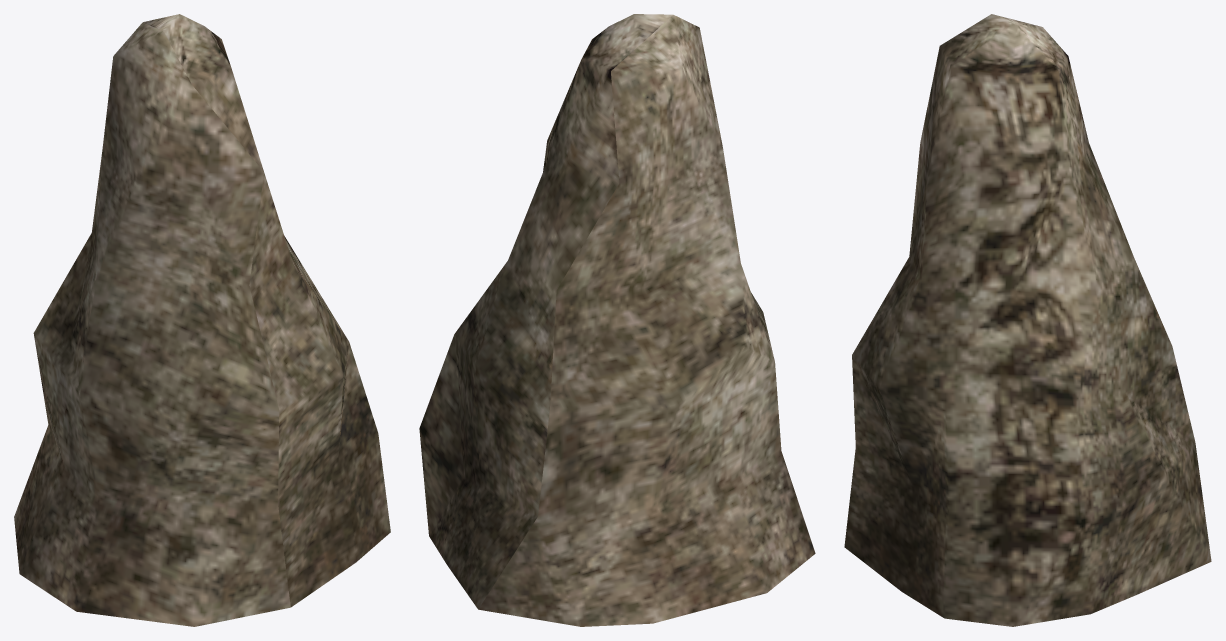
The model's file is general_obj_txtstone.glb.
3 renders of one model, left to right at view 1: azimuth 30°, elevation 25°; view 2: azimuth 150°, elevation 25°; view 3: azimuth 270°, elevation 25°, orthographic. The views are drawn at different scales.
Visible parts, largest first — view 1: Box01; view 2: Box01; view 3: Box01.
Boxes of the visible parts, x1,y1,x2,y2 form: Box01: (14,14,390,626); Box01: (419,14,815,626); Box01: (844,14,1211,626).
Bounding box in the file's own units: 1.84 × 2.77 × 1.8.
1 material, 1 textured.
